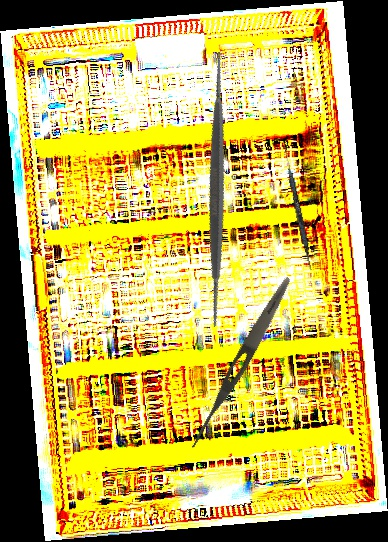Dressing Forceps: (185, 273, 296, 455)
Spatula Surgical: (67, 39, 368, 339), (280, 146, 316, 271)
